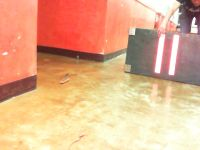switch: (168, 34, 180, 75), (154, 34, 165, 73)
